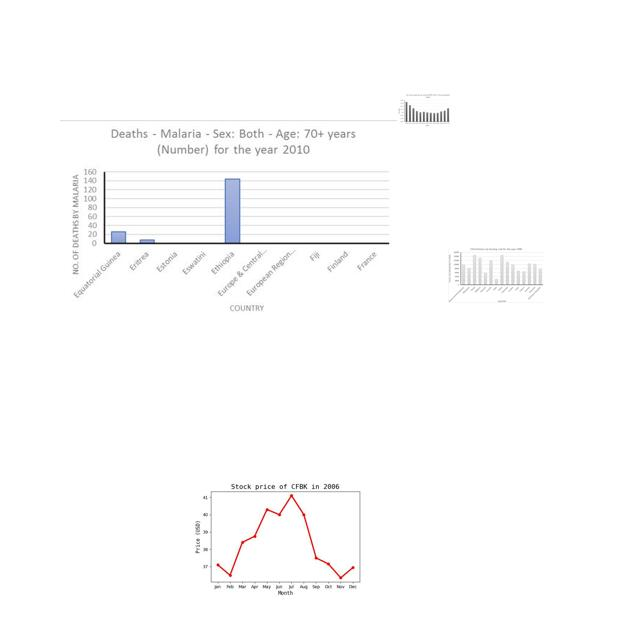Graph: (60, 120, 397, 319), (187, 464, 379, 608), (448, 247, 544, 303), (397, 94, 451, 127)
